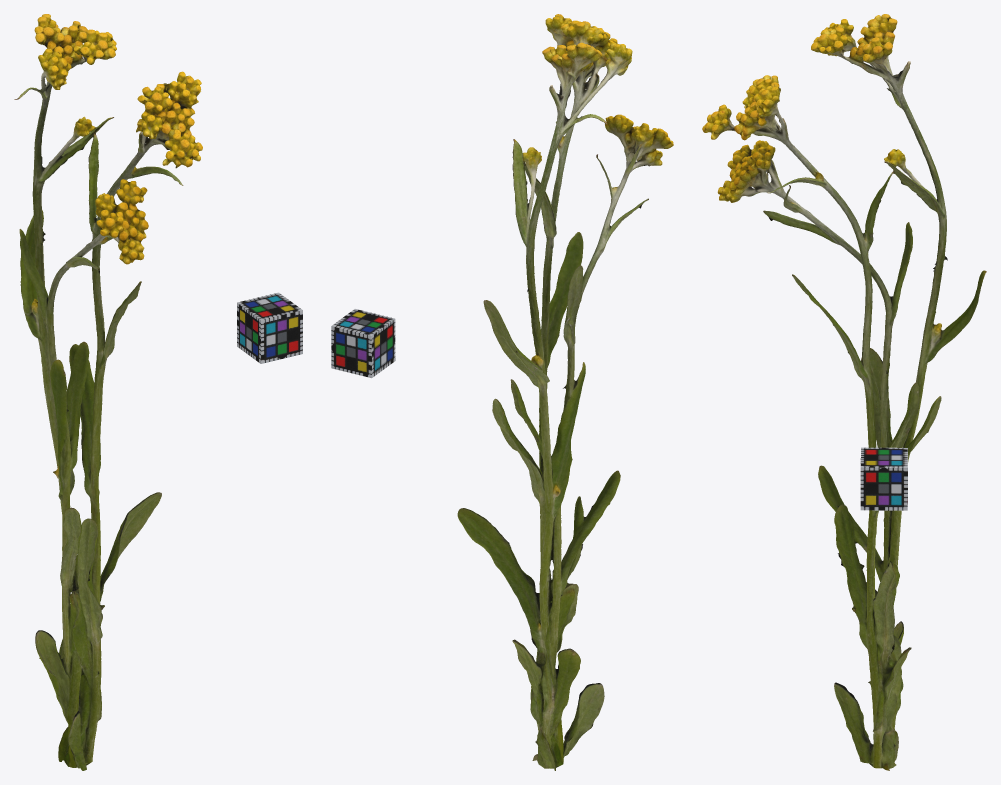
File: cc0__cottonweed_pseudognaphalium_affine.glb
The picture shows the model from 3 angles, left to right: view 1: azimuth 30°, elevation 25°; view 2: azimuth 150°, elevation 25°; view 3: azimuth 270°, elevation 25°; orthographic projection. The views are drawn at different scales.
Visible parts, largest first — view 1: Q1226-W06-1all-2_5, Cube_2; view 2: Q1226-W06-1all-2_5, Cube_2; view 3: Q1226-W06-1all-2_5, Cube_2.
Boxes of the visible parts, x1,y1,x2,y2 form: Q1226-W06-1all-2_5: [14, 14, 202, 770]; Cube_2: [237, 292, 302, 363]; Q1226-W06-1all-2_5: [457, 14, 673, 770]; Cube_2: [331, 309, 395, 378]; Q1226-W06-1all-2_5: [702, 14, 986, 770]; Cube_2: [860, 447, 907, 510].
Size of the model in its own units: 3.9 by 10.22 by 3.58.
Materials: 3 (3 with a texture image).
